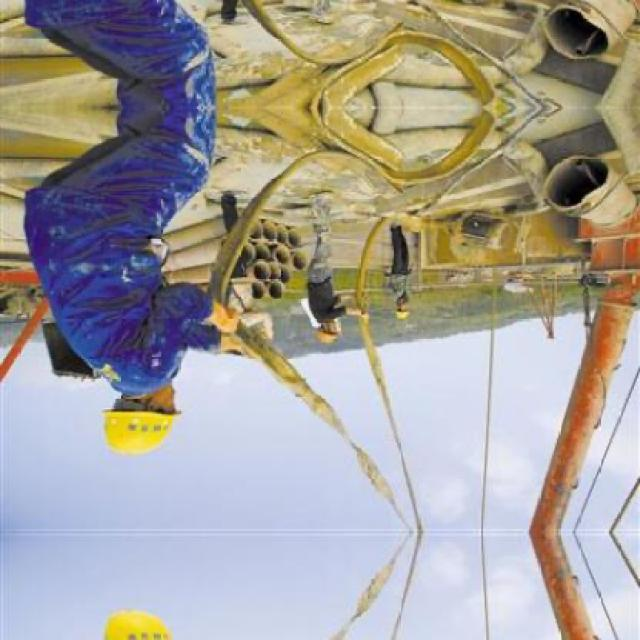con casco: (96, 352, 210, 466), (312, 311, 345, 358)
